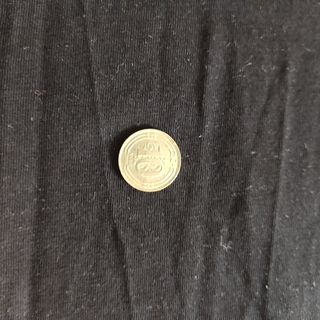10KURUS: (116, 126, 183, 194)
